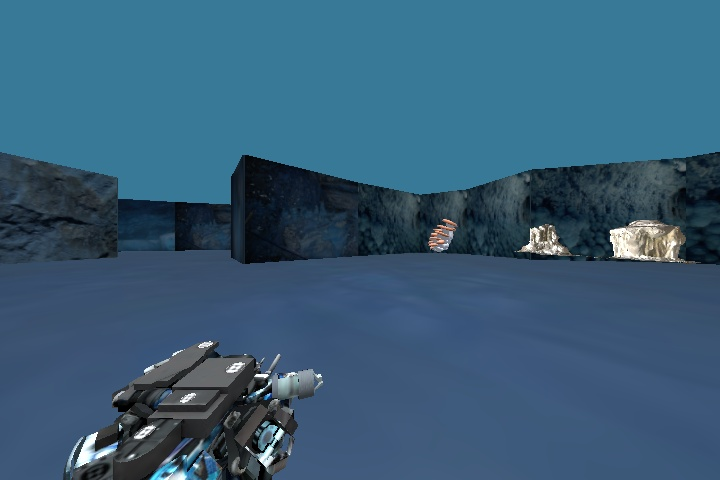formation: (603, 214, 683, 264), (515, 217, 574, 260)
mushrooms: (415, 216, 460, 257)
